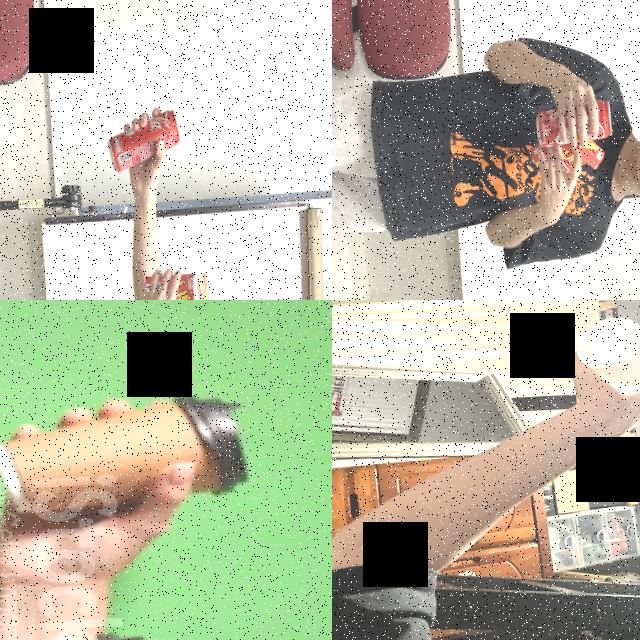can: (105, 108, 182, 176), (532, 100, 614, 150)
cup: (0, 388, 246, 519), (576, 312, 640, 435)
